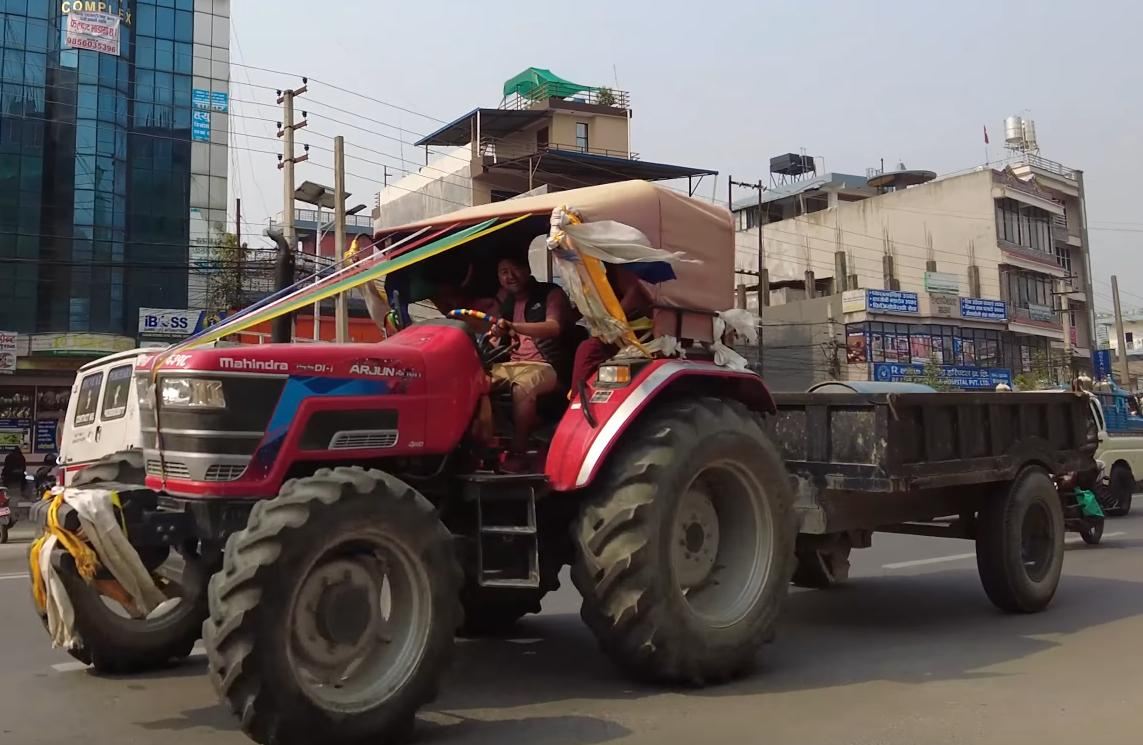tractor: (19, 168, 813, 745)
